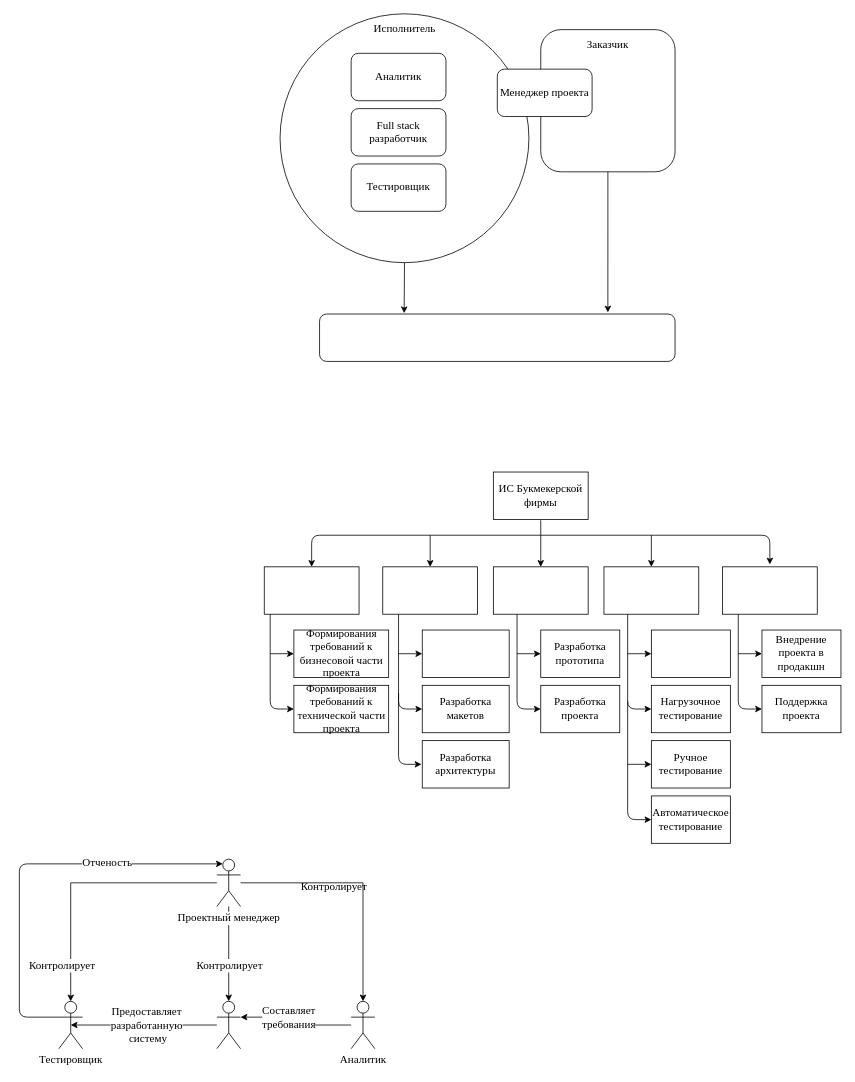
This 855x1082 diagram has some shape labels left out. Here are the shapes that lost their labels. From the top down, the centre of each, then its label:
At (x=497, y=337): "web-приложения для проекта букмекерской фирмы".
At (x=311, y=590): "Разработка требований".
At (x=430, y=590): "Проектирование".
At (x=540, y=590): "Реализация".
At (x=651, y=590): "Тестирование".
At (x=769, y=590): "Внедрение".
At (x=465, y=653): "Разработка ТЗ".
At (x=690, y=653): "Функциональное тестирование".
At (x=228, y=1025): "Разработчик".
